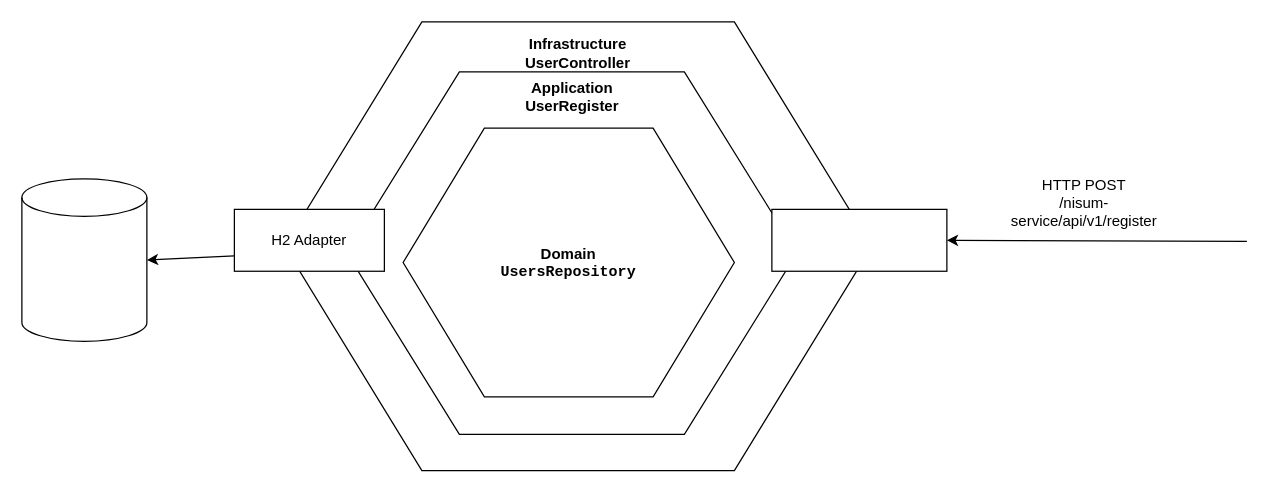
This 1279x493 diagram has some shape labels left out. Each missing label, with the centre of its shape:
"HTTP Adapter" belongs at [859,239].
"nisumDb(H2)" belongs at [84,259].
